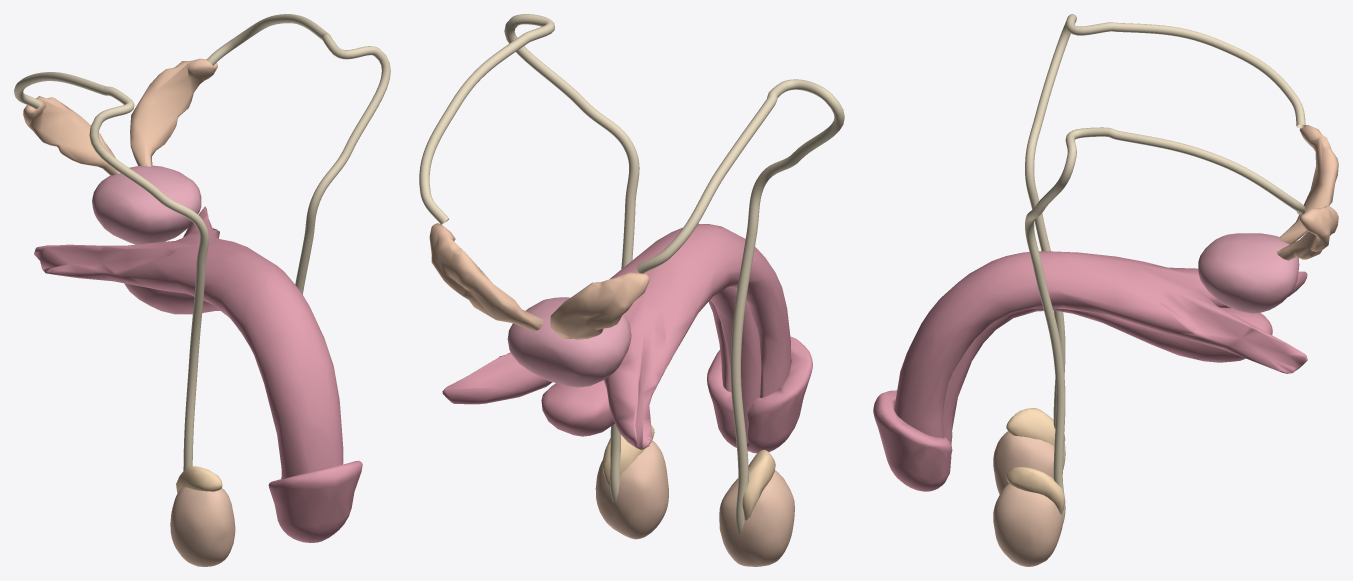
The model's file is z-anatomy-1.3.0-reproductive.glb.
3 renders of one model, left to right at view 1: azimuth 30°, elevation 25°; view 2: azimuth 150°, elevation 25°; view 3: azimuth 270°, elevation 25°, orthographic. The views are drawn at different scales.
Parts seen in each view (by area): view 1: penile-erectile-tissues-corpus-cavernosum-of-penis__Corpus c, prostate__Prostate, ductus-deferentes-ductus-deferens-right__Ductus deferens.r, penile-erectile-tissues-glans-penis__Glans penis, seminal-glands-seminal-gland-left__Seminal gland.l, ductus-deferentes-ductus-deferens-left__Ductus deferens.l, testes-testis-right__Testis.r, seminal-glands-seminal-gland-right__Seminal gland.r, penile-erectile-tissues-corpus-spongiosum-of-penis__Corpus s, epididymides-epididymis-right__Epididymis.r; view 2: penile-erectile-tissues-corpus-cavernosum-of-penis__Corpus c, ductus-deferentes-ductus-deferens-right__Ductus deferens.r, ductus-deferentes-ductus-deferens-left__Ductus deferens.l, prostate__Prostate, penile-erectile-tissues-corpus-spongiosum-of-penis__Corpus s, penile-erectile-tissues-glans-penis__Glans penis, testes-testis-right__Testis.r, testes-testis-left__Testis.l, seminal-glands-seminal-gland-left__Seminal gland.l, seminal-glands-seminal-gland-right__Seminal gland.r, epididymides-epididymis-right__Epididymis.r, epididymides-epididymis-left__Epididymis.l; view 3: penile-erectile-tissues-corpus-cavernosum-of-penis__Corpus c, prostate__Prostate, ductus-deferentes-ductus-deferens-left__Ductus deferens.l, ductus-deferentes-ductus-deferens-right__Ductus deferens.r, penile-erectile-tissues-corpus-spongiosum-of-penis__Corpus s, penile-erectile-tissues-glans-penis__Glans penis, testes-testis-left__Testis.l, seminal-glands-seminal-gland-right__Seminal gland.r, testes-testis-right__Testis.r, seminal-glands-seminal-gland-left__Seminal gland.l, epididymides-epididymis-left__Epididymis.l, epididymides-epididymis-right__Epididymis.r.
Part boxes in pixels (x1,y1,x2,y2): penile-erectile-tissues-corpus-cavernosum-of-penis__Corpus c: [34, 206, 343, 479]; prostate__Prostate: [92, 165, 201, 244]; ductus-deferentes-ductus-deferens-right__Ductus deferens.r: [14, 72, 209, 470]; penile-erectile-tissues-glans-penis__Glans penis: [268, 460, 362, 542]; seminal-glands-seminal-gland-left__Seminal gland.l: [130, 58, 217, 166]; ductus-deferentes-ductus-deferens-left__Ductus deferens.l: [206, 14, 390, 294]; testes-testis-right__Testis.r: [170, 487, 235, 566]; seminal-glands-seminal-gland-right__Seminal gland.r: [23, 96, 119, 175]; penile-erectile-tissues-corpus-spongiosum-of-penis__Corpus s: [124, 283, 220, 314]; epididymides-epididymis-right__Epididymis.r: [176, 466, 222, 493]; penile-erectile-tissues-corpus-cavernosum-of-penis__Corpus c: [442, 223, 790, 449]; ductus-deferentes-ductus-deferens-right__Ductus deferens.r: [636, 79, 844, 533]; ductus-deferentes-ductus-deferens-left__Ductus deferens.l: [419, 14, 639, 503]; prostate__Prostate: [507, 297, 631, 387]; penile-erectile-tissues-corpus-spongiosum-of-penis__Corpus s: [541, 287, 761, 447]; penile-erectile-tissues-glans-penis__Glans penis: [707, 336, 812, 453]; testes-testis-right__Testis.r: [719, 470, 794, 566]; testes-testis-left__Testis.l: [595, 440, 668, 539]; seminal-glands-seminal-gland-left__Seminal gland.l: [429, 223, 543, 331]; seminal-glands-seminal-gland-right__Seminal gland.r: [550, 272, 649, 339]; epididymides-epididymis-right__Epididymis.r: [742, 449, 775, 520]; epididymides-epididymis-left__Epididymis.l: [602, 425, 654, 486]; penile-erectile-tissues-corpus-cavernosum-of-penis__Corpus c: [894, 251, 1307, 438]; prostate__Prostate: [1198, 233, 1299, 313]; ductus-deferentes-ductus-deferens-left__Ductus deferens.l: [1025, 127, 1305, 524]; ductus-deferentes-ductus-deferens-right__Ductus deferens.r: [1025, 14, 1305, 469]; penile-erectile-tissues-corpus-spongiosum-of-penis__Corpus s: [942, 307, 1272, 474]; penile-erectile-tissues-glans-penis__Glans penis: [873, 390, 952, 491]; testes-testis-left__Testis.l: [993, 483, 1062, 566]; seminal-glands-seminal-gland-right__Seminal gland.r: [1279, 125, 1338, 244]; testes-testis-right__Testis.r: [993, 431, 1063, 494]; seminal-glands-seminal-gland-left__Seminal gland.l: [1277, 206, 1338, 260]; epididymides-epididymis-left__Epididymis.l: [1006, 467, 1065, 514]; epididymides-epididymis-right__Epididymis.r: [1006, 408, 1065, 445].
Size of the model in its own units: 0.1123 by 0.1654 by 0.151.
